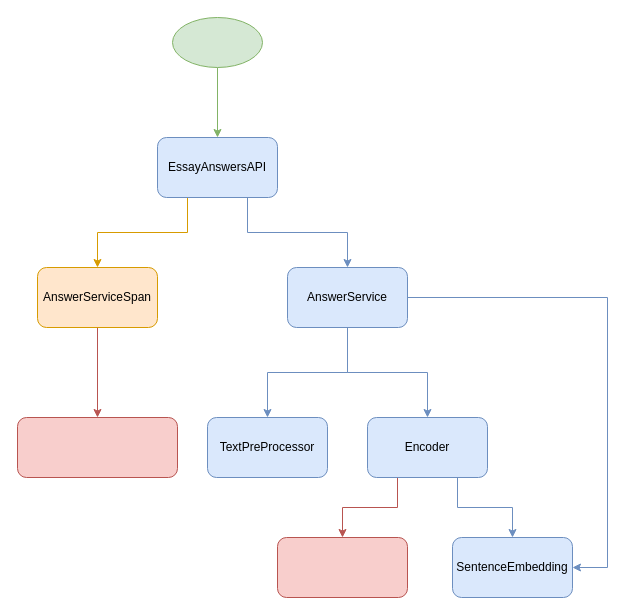
This 633x615 diagram has some shape labels left out. Here are the shapes that lost their labels. From the top down, the box of each, then its label:
(172, 16, 262, 68): Entry Point
(16, 416, 178, 478): BertForQuestionAnswering
(276, 536, 408, 598): SentenceTransformer (BERT)
